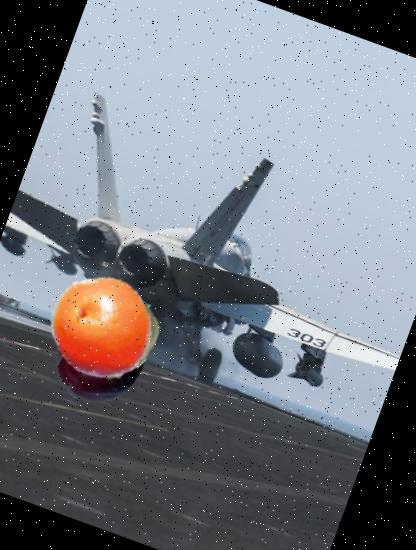Kohlrabi: (42, 263, 172, 392)
Plum: (42, 300, 162, 420)
Tangelo: (32, 260, 168, 396)
